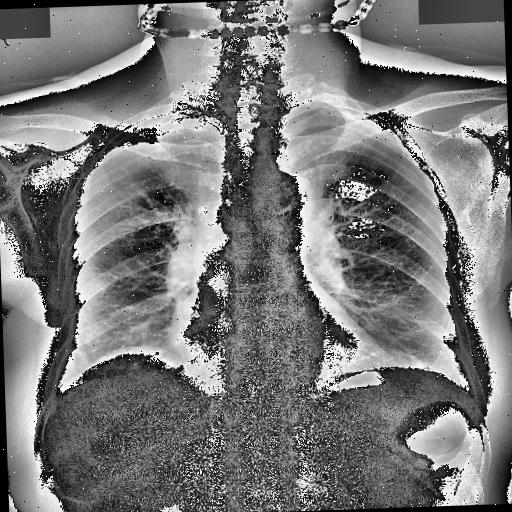0- Aortic enlargement: (259, 170, 315, 246), (246, 171, 315, 230), (250, 166, 316, 226)
11- Pleural thickening: (99, 107, 214, 156), (97, 110, 212, 152), (284, 102, 370, 122)
3- Cardiomegaly: (168, 308, 397, 386), (168, 320, 384, 378)
